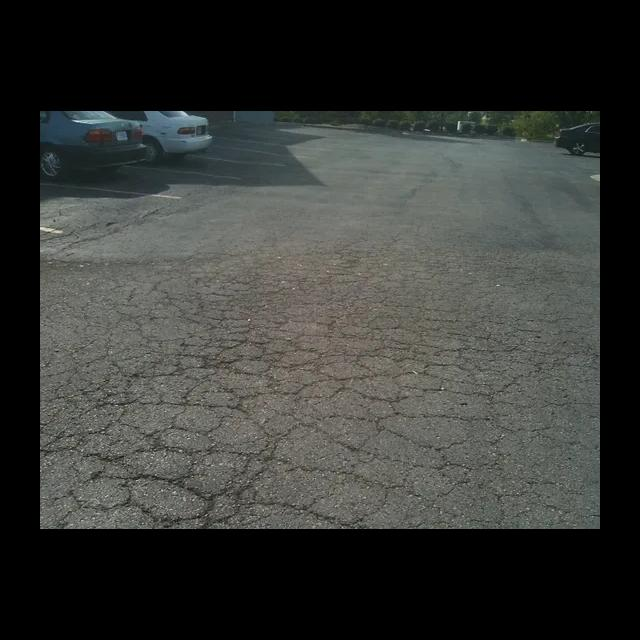retak_kulit_buaya: (63, 263, 556, 518)
